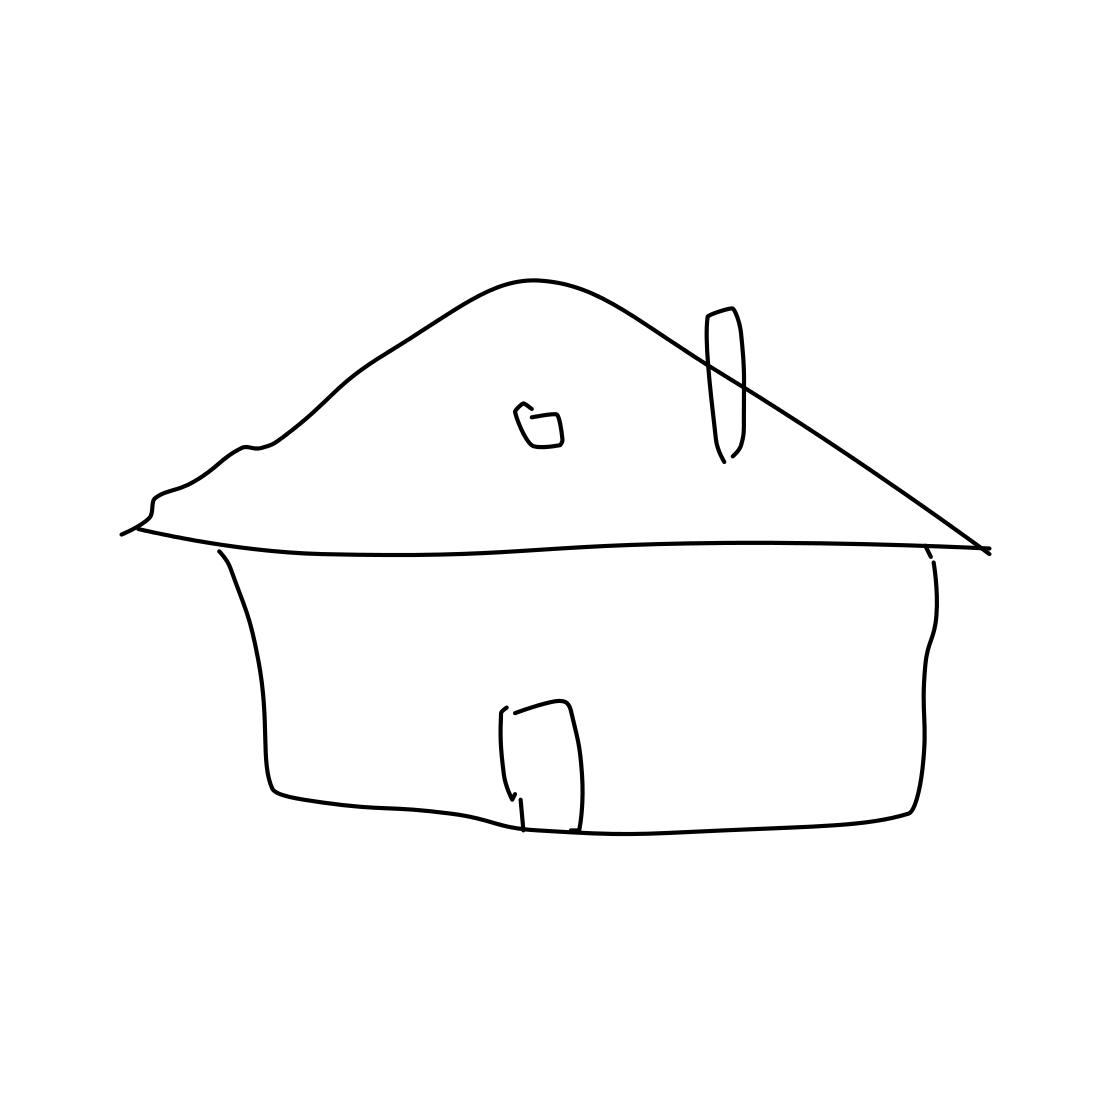House: (112, 191, 1027, 846)
